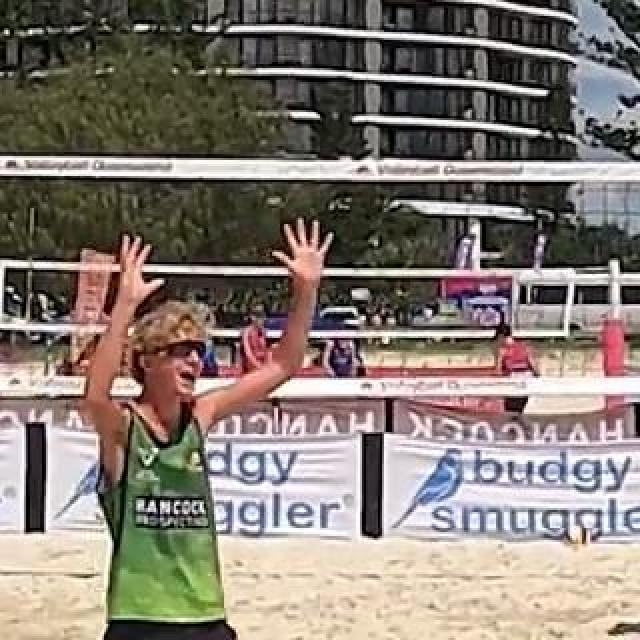volleyball: (563, 522, 591, 550)
